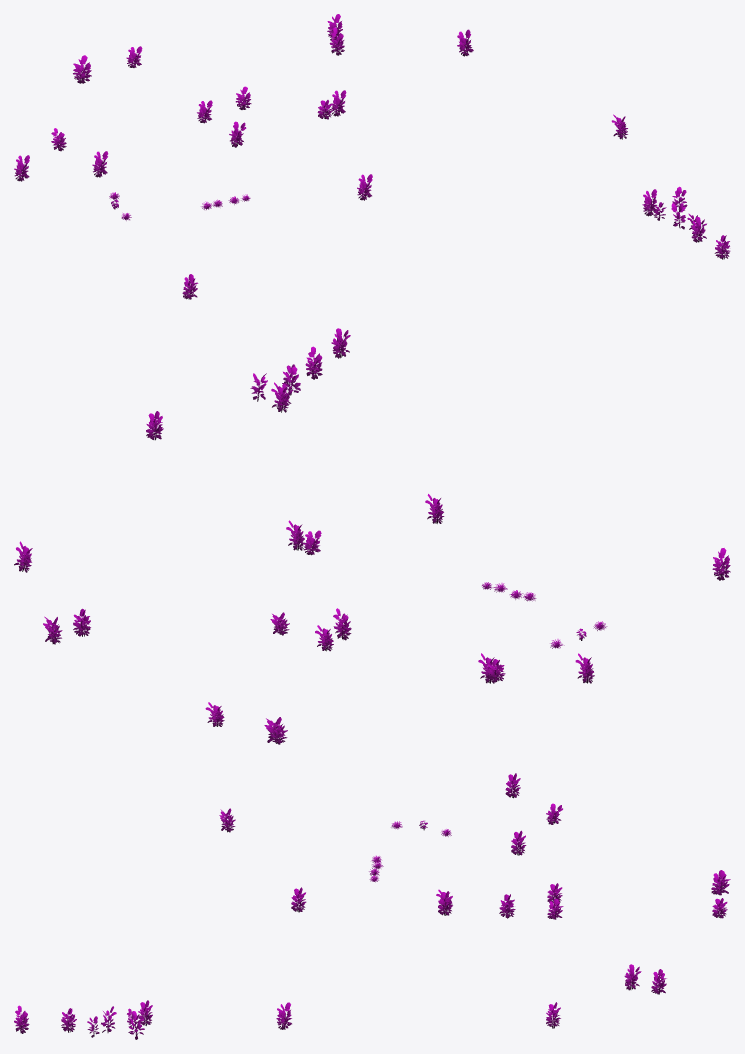
The model's file is n0_lr0_agg_merge_mall_trees_branches01_1.glb.
The picture shows the model from 3 angles, top to bottom: view 1: azimuth 30°, elevation 25°; view 2: azimuth 150°, elevation 25°; view 3: azimuth 270°, elevation 25°; orthographic projection. The views are drawn at different scales.
Visible parts, largest first — view 1: maps\de_mirage\worldnodes\n0_lr0_agg_merge_mall_trees_branch; view 2: maps\de_mirage\worldnodes\n0_lr0_agg_merge_mall_trees_branch; view 3: maps\de_mirage\worldnodes\n0_lr0_agg_merge_mall_trees_branch.
Boxes of the visible parts, box(x1,y1,x2,y2) form: maps\de_mirage\worldnodes\n0_lr0_agg_merge_mall_trees_branch: box(14, 14, 730, 299); maps\de_mirage\worldnodes\n0_lr0_agg_merge_mall_trees_branch: box(14, 328, 730, 744); maps\de_mirage\worldnodes\n0_lr0_agg_merge_mall_trees_branch: box(14, 773, 730, 1039).
Size of the model in its own units: 108 by 13.73 by 134.
